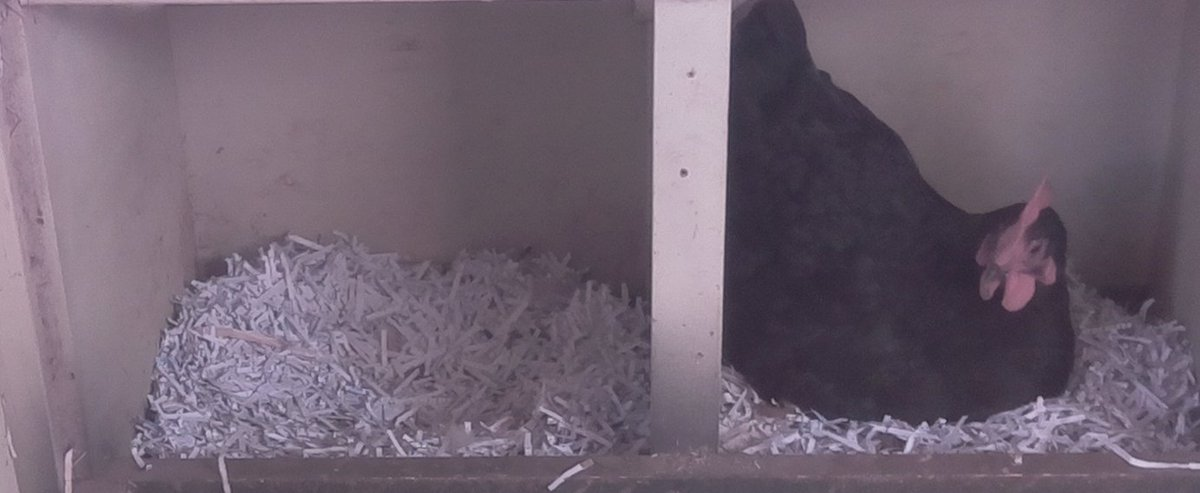hen: (732, 11, 1080, 427)
